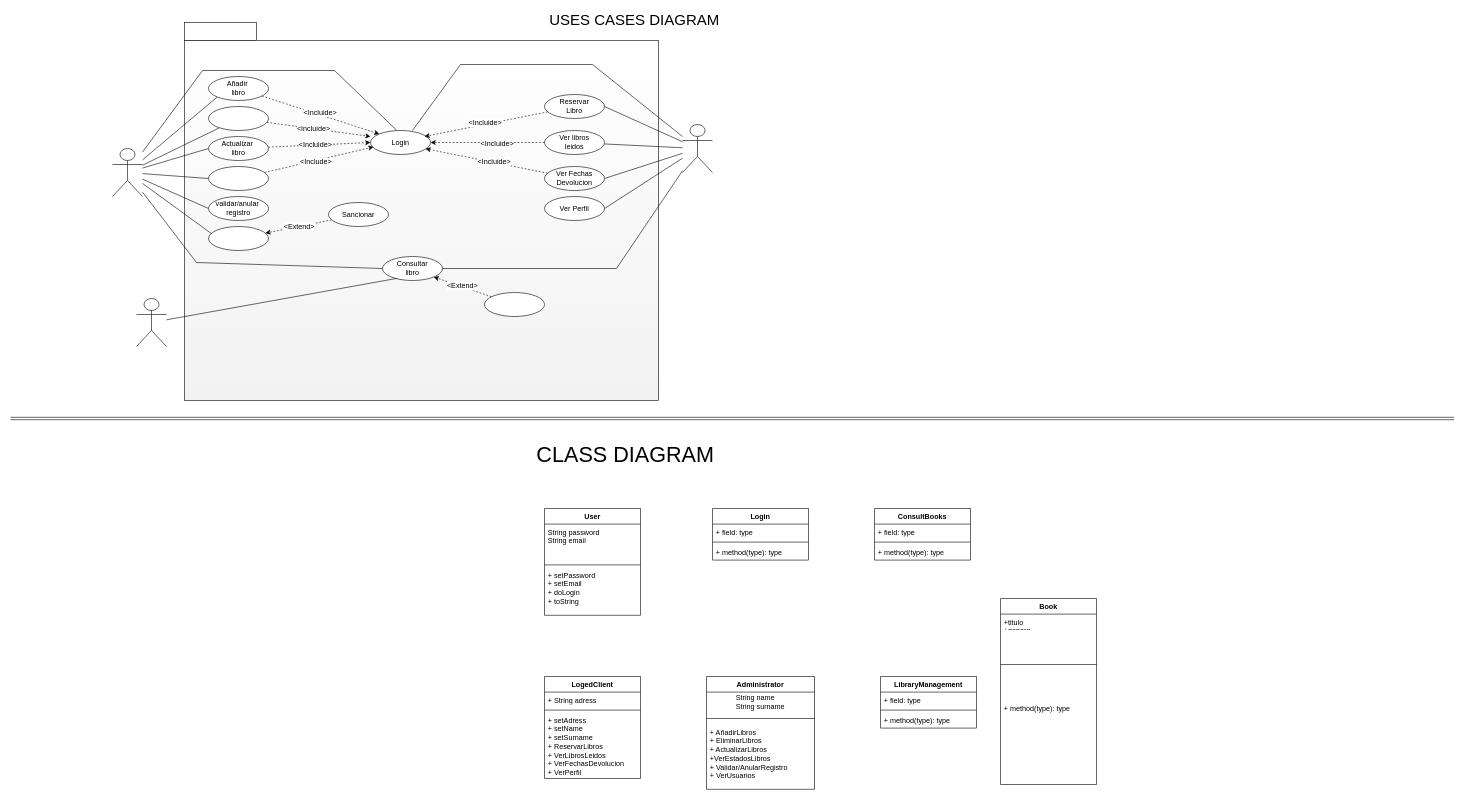
Some shapes in this 1465 by 801 pixel diagram are drawn without their labels. The shapes that lost their labels are listed below. From the top down, each one's centre as x and y in pixels, then its label:
point 220,31: Library
point 238,118: Eliminar libro
point 697,148: Usuario Registrado
point 127,172: Administrador
point 238,178: Ver Estado Libro
point 238,238: Ver usuarios
point 151,322: Usuario NO Registrado
point 514,304: Registrarse
